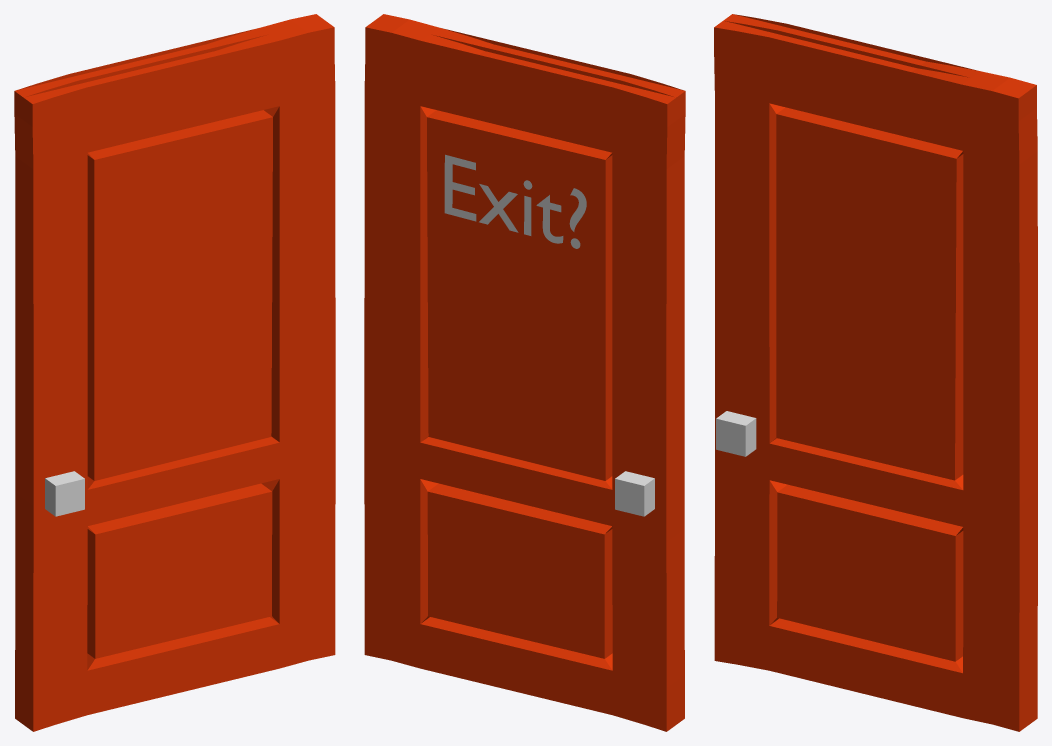
File: door.fbx
The picture shows the model from 3 angles, left to right: view 1: azimuth 30°, elevation 25°; view 2: azimuth 150°, elevation 25°; view 3: azimuth 330°, elevation 25°; orthographic projection.
Visible parts, largest first — view 1: Plane, Cube; view 2: Plane, Text, Cube; view 3: Plane, Cube.
Boxes of the visible parts, box(x1,y1,x2,y2) form: Plane: box(14, 14, 335, 731); Cube: box(45, 471, 84, 516); Plane: box(364, 14, 685, 731); Text: box(444, 154, 586, 248); Cube: box(615, 471, 654, 516); Plane: box(714, 14, 1037, 731); Cube: box(716, 411, 756, 456).
Bounding box in the file's own units: 370 × 737 × 82.82.
